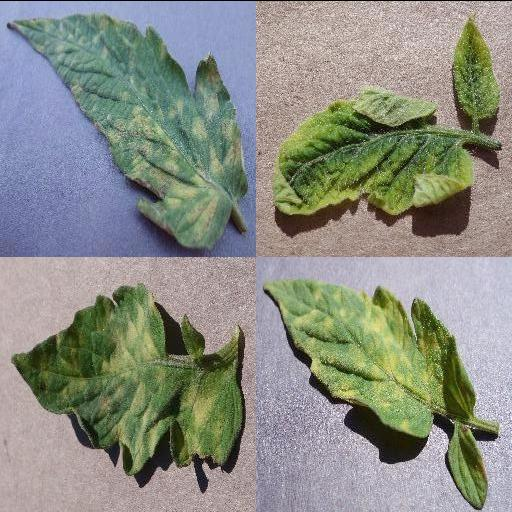Leaf Mold: (8, 13, 248, 246), (11, 283, 247, 475), (264, 278, 478, 438)
Yellow Leaf Curl Virus: (270, 86, 476, 214), (452, 15, 496, 121)
